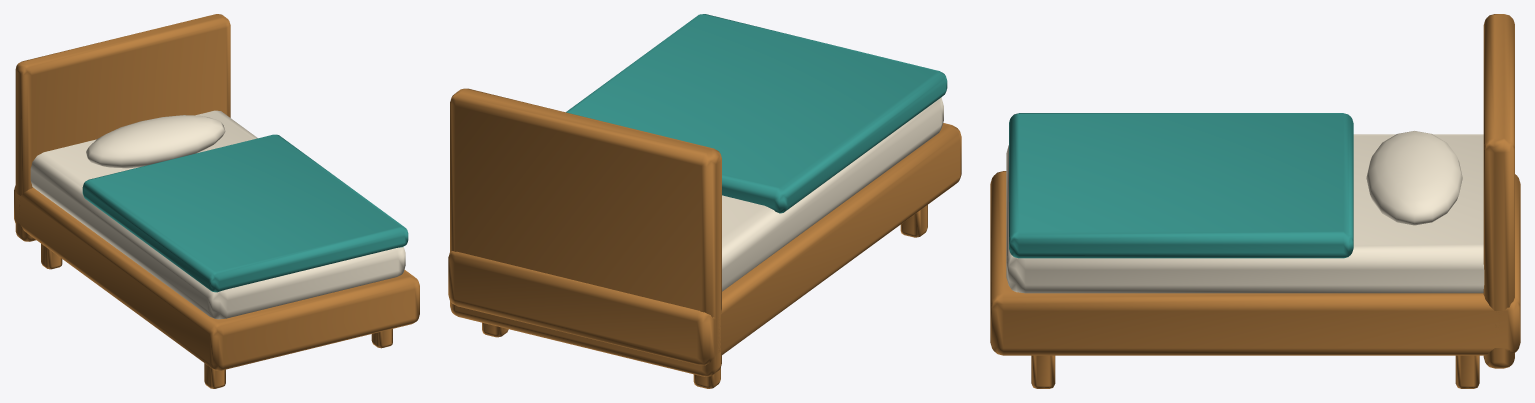
File: shelter-single-bed.glb
The picture shows the model from 3 angles, left to right: view 1: azimuth 30°, elevation 25°; view 2: azimuth 150°, elevation 25°; view 3: azimuth 270°, elevation 25°; orthographic projection. The views are drawn at different scales.
Visible parts, largest first — view 1: interior_1_wood, interior_1_cloth, interior_1_ivory; view 2: interior_1_wood, interior_1_cloth, interior_1_ivory; view 3: interior_1_cloth, interior_1_wood, interior_1_ivory.
Part boxes in pixels (x1,y1,x2,y2): interior_1_wood: (14, 14, 419, 388); interior_1_cloth: (82, 134, 408, 292); interior_1_ivory: (30, 110, 405, 319); interior_1_wood: (448, 88, 961, 388); interior_1_cloth: (566, 14, 947, 213); interior_1_ivory: (722, 97, 943, 291); interior_1_cloth: (1009, 113, 1353, 258); interior_1_wood: (990, 14, 1520, 388); interior_1_ivory: (1006, 131, 1484, 293).
Bounding box in the file's own units: 1.3 × 1.17 × 2.2.
